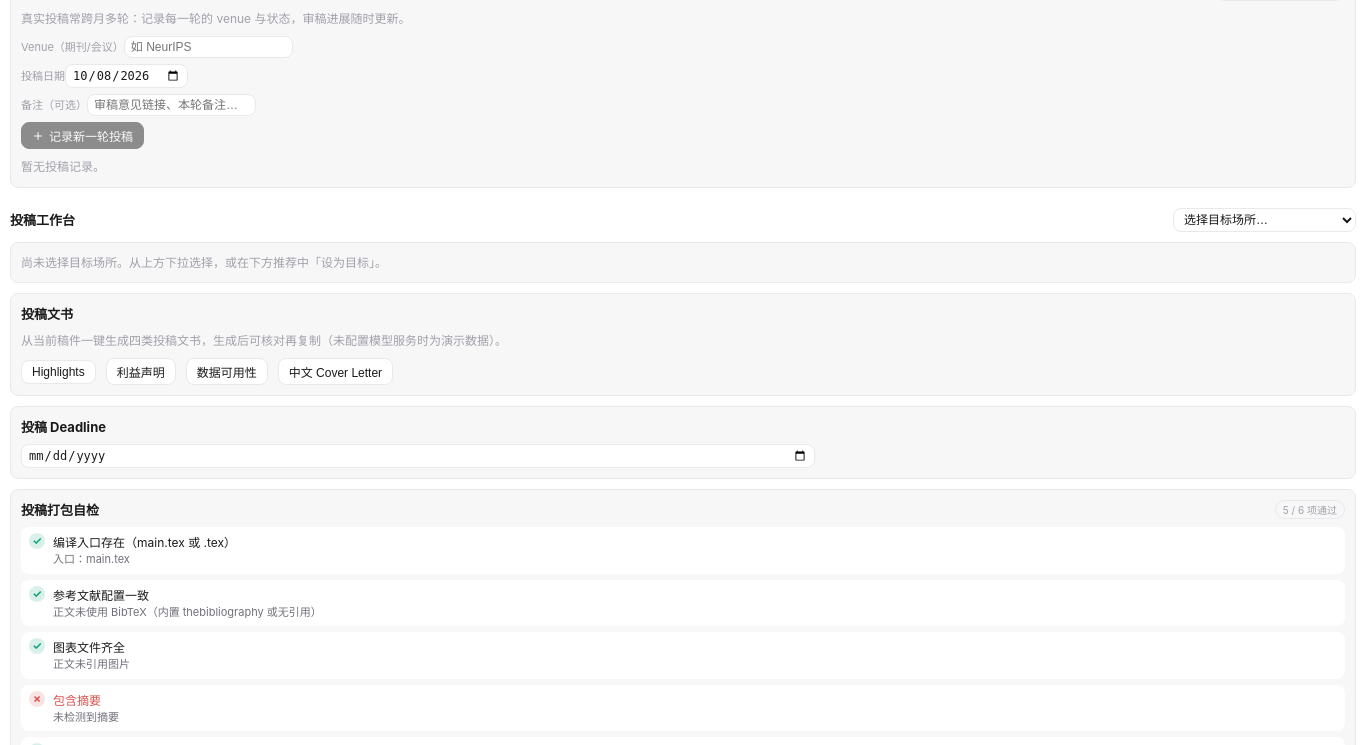
Test: SubmitPanel「投稿文书」区 › 每类结果带「复制」按钮：点击写入剪贴板并短暂显示「已复制」
(page scrolled)
Click the button "Highlights" at (58, 372), box [21, 360, 96, 384]
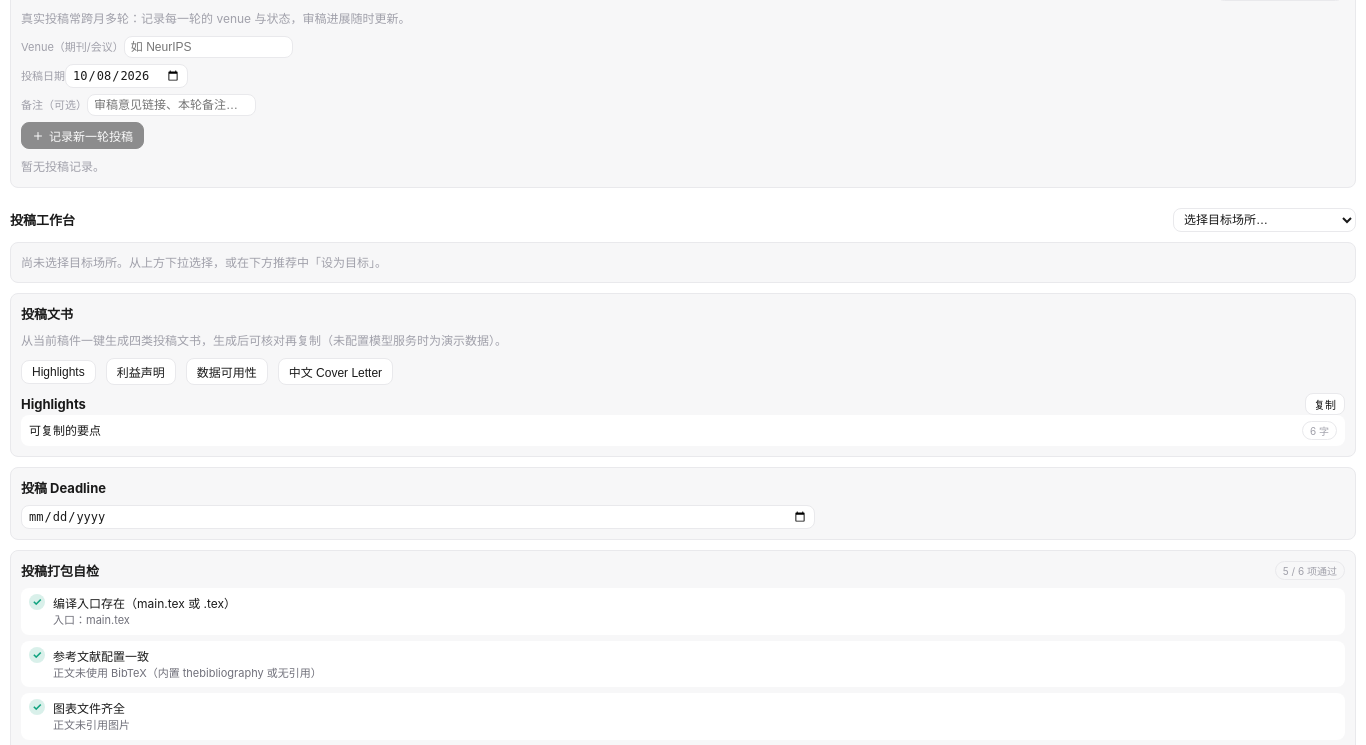
Click the button "复制" at (1325, 404), box [1305, 393, 1345, 415]
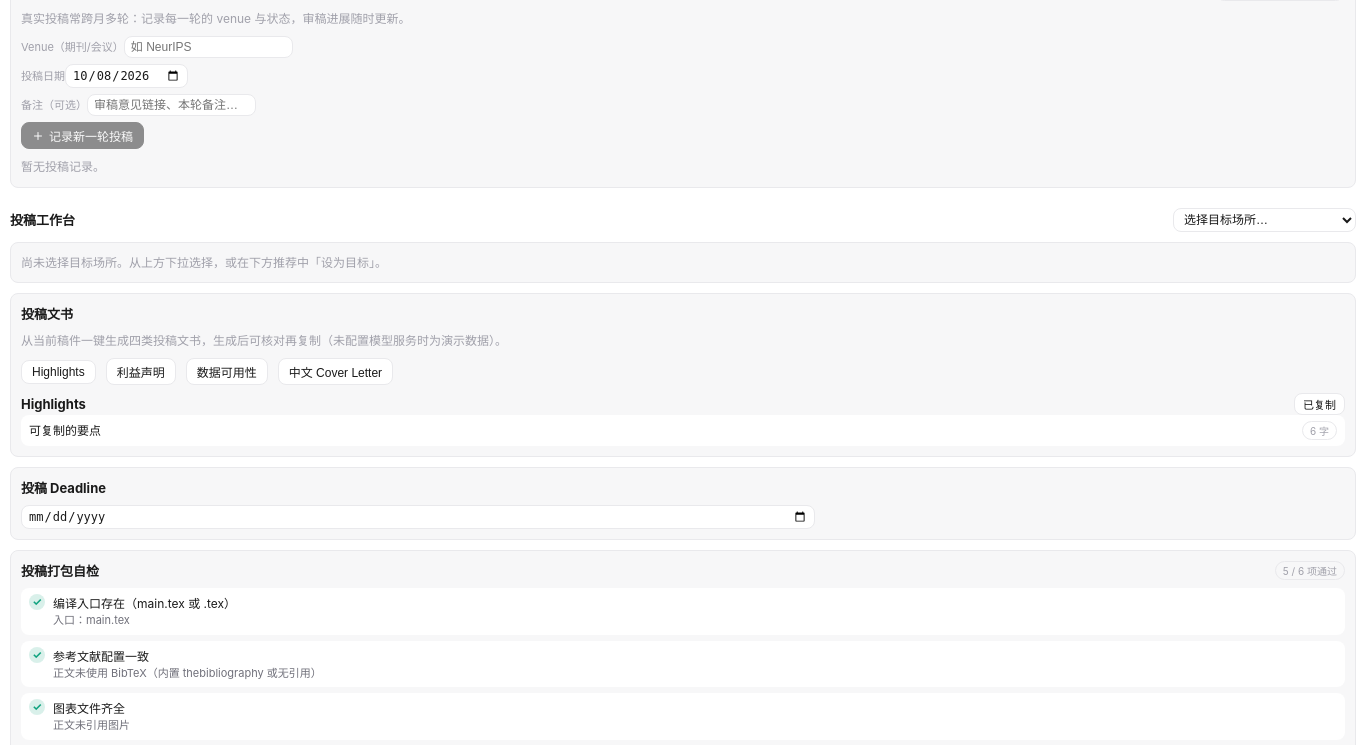
Now the text "已复制" is shown, box [1294, 393, 1345, 415]
